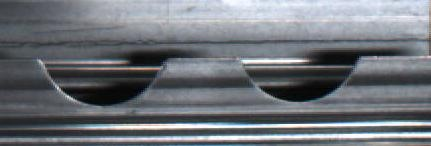twou: (38, 44, 360, 113)
